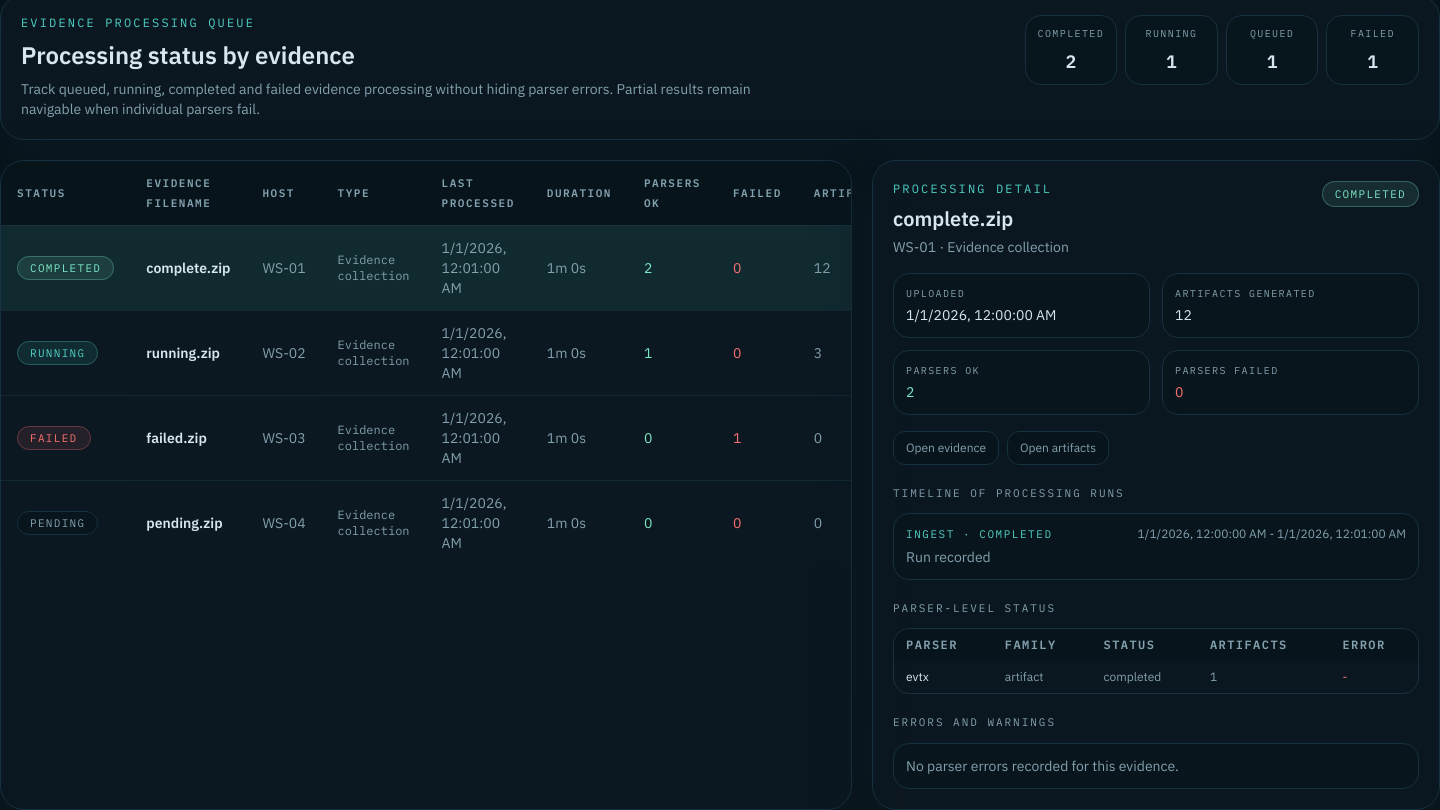
Test: CaseDetail Processing Queue › opens processing detail and shows parser error state
This screenshot has width=1440, height=810.
(page scrolled)
Click the button with test id "select-processing-ev-failed" at (177,438), box [146, 428, 207, 448]
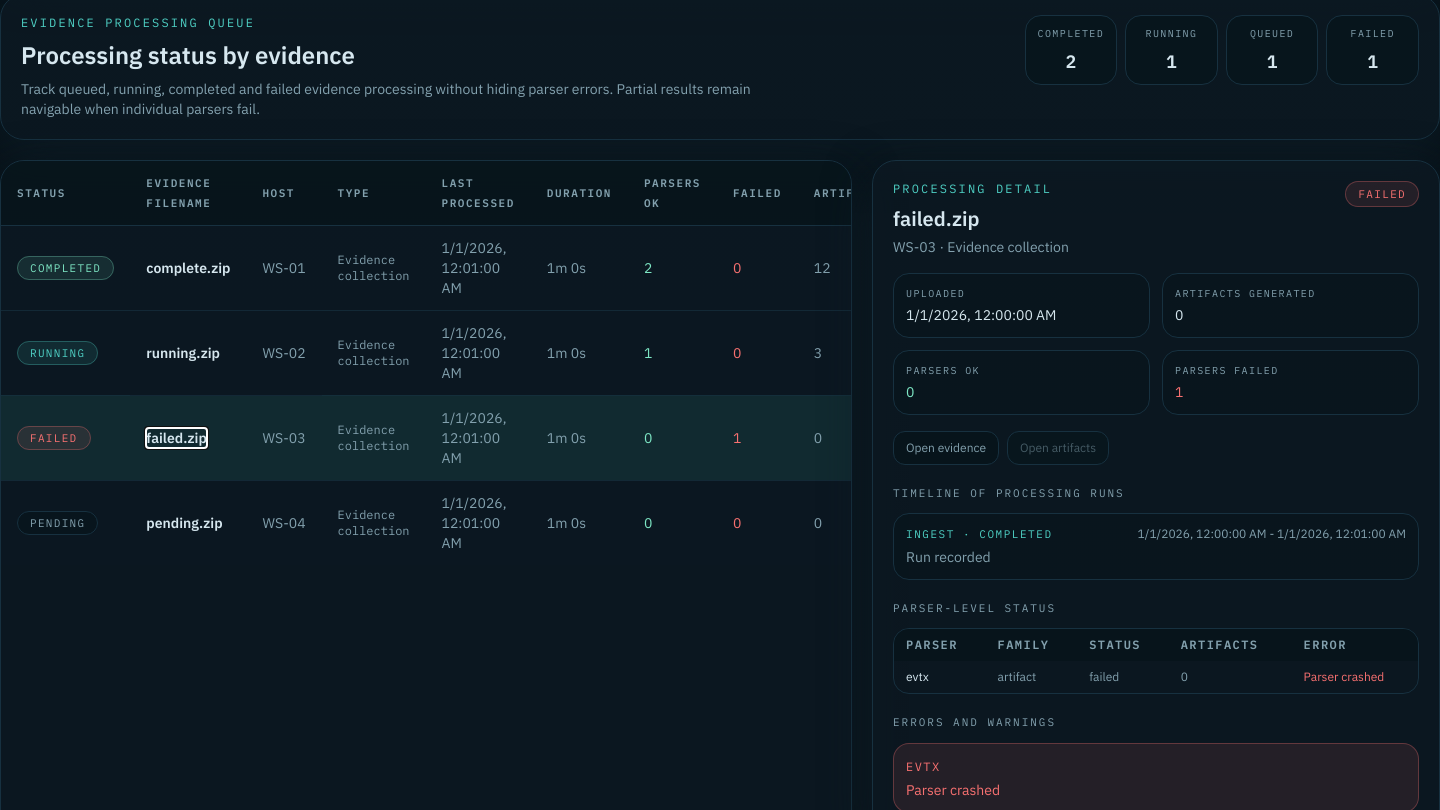
Expected: the text "evtx" is shown, [894, 661, 986, 693]
Now the element with test id "processing-detail-panel" shows "failed.zip", box [893, 204, 980, 232]
